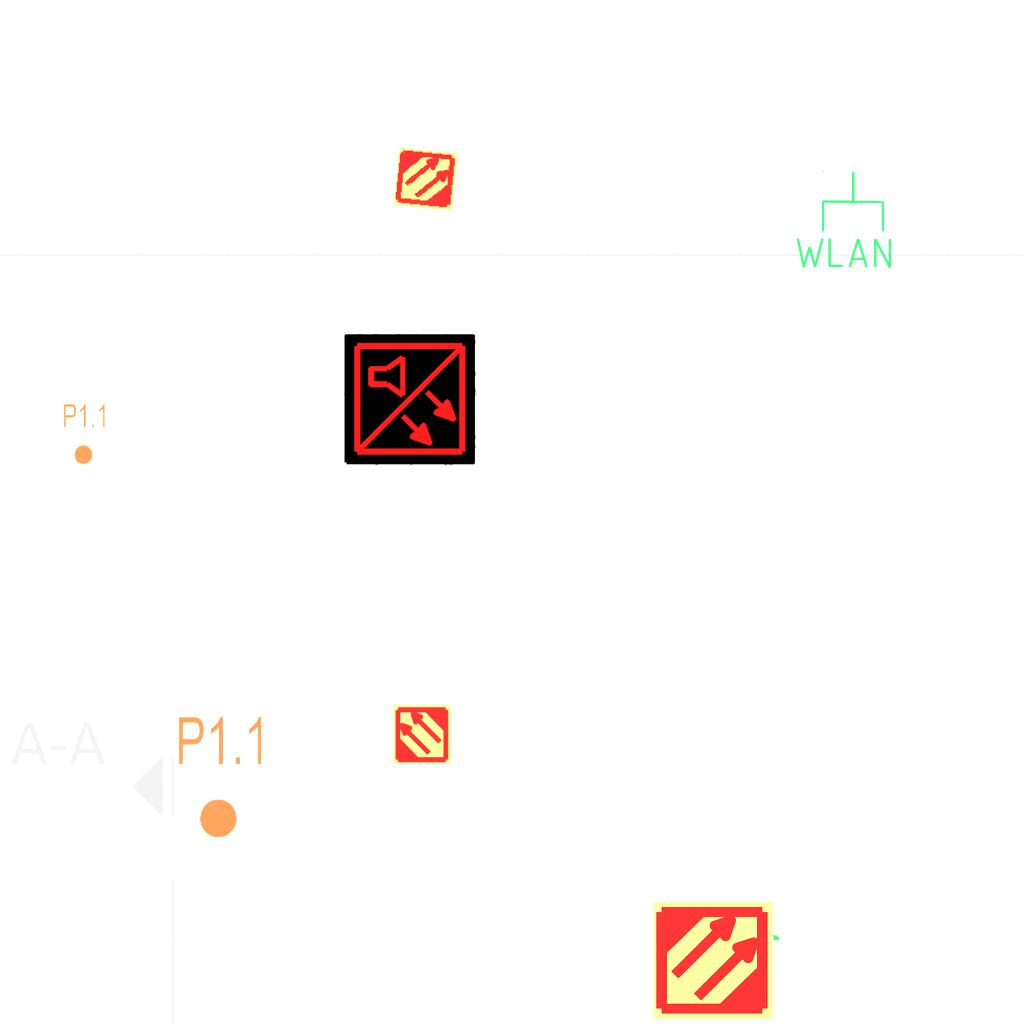ASR_Ansaugrauchmelder: (651, 898, 776, 1023), (391, 144, 461, 214), (391, 703, 453, 765)
Downlight_LED_Einbauleuchten_Flur: (175, 713, 268, 841), (62, 402, 108, 466)
OKW_Multisensormelder_(Kombination_optischer_Rauch-Kahlenmonoxid_Waerme-Melder): (344, 334, 476, 466)
WLAN: (644, 885, 786, 1024), (791, 168, 896, 272)
